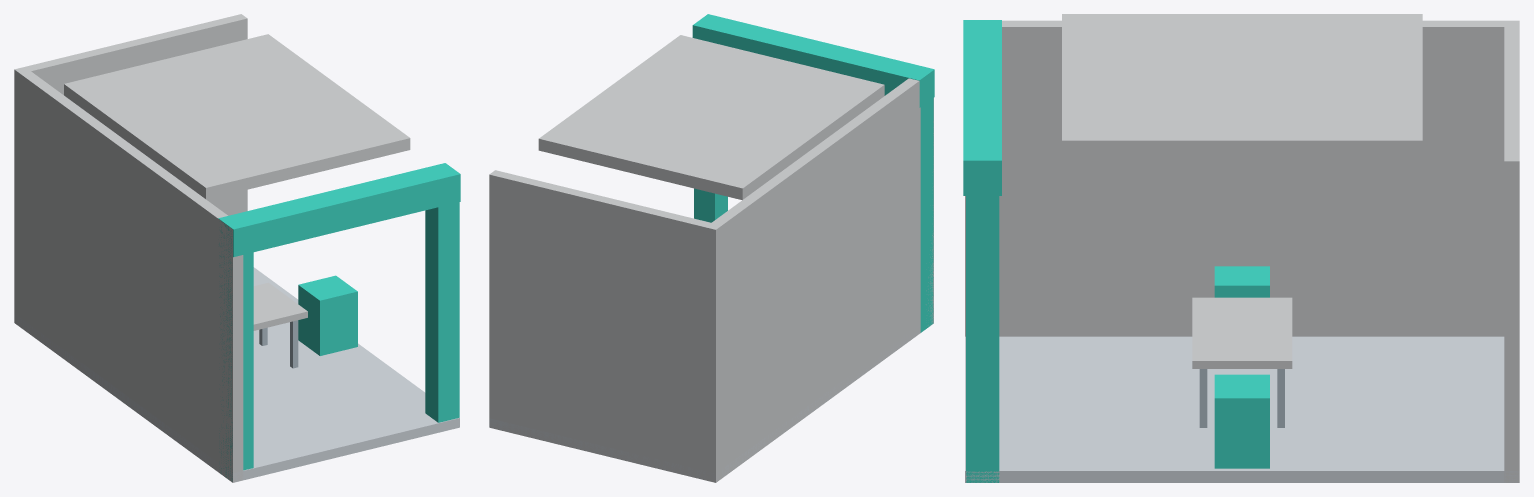
3 renders of one model, left to right at view 1: azimuth 30°, elevation 25°; view 2: azimuth 150°, elevation 25°; view 3: azimuth 270°, elevation 25°, orthographic. The views are drawn at different scales.
Visible parts, largest first — view 1: Exhibition Booth Concept; view 2: Exhibition Booth Concept; view 3: Exhibition Booth Concept.
Boxes of the visible parts, bbox=[...] form: Exhibition Booth Concept: bbox=[14, 14, 460, 482]; Exhibition Booth Concept: bbox=[489, 14, 934, 482]; Exhibition Booth Concept: bbox=[963, 14, 1519, 482].
Bounding box in the file's own units: 3 × 3.34 × 5.02.
